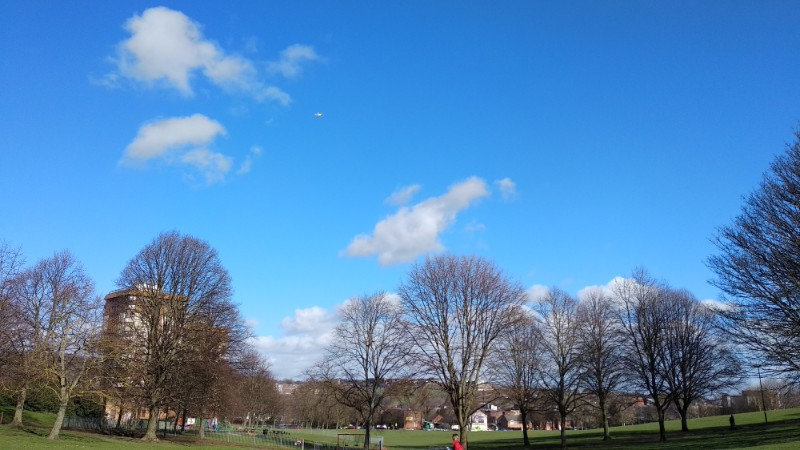drone: (313, 111, 323, 119)
